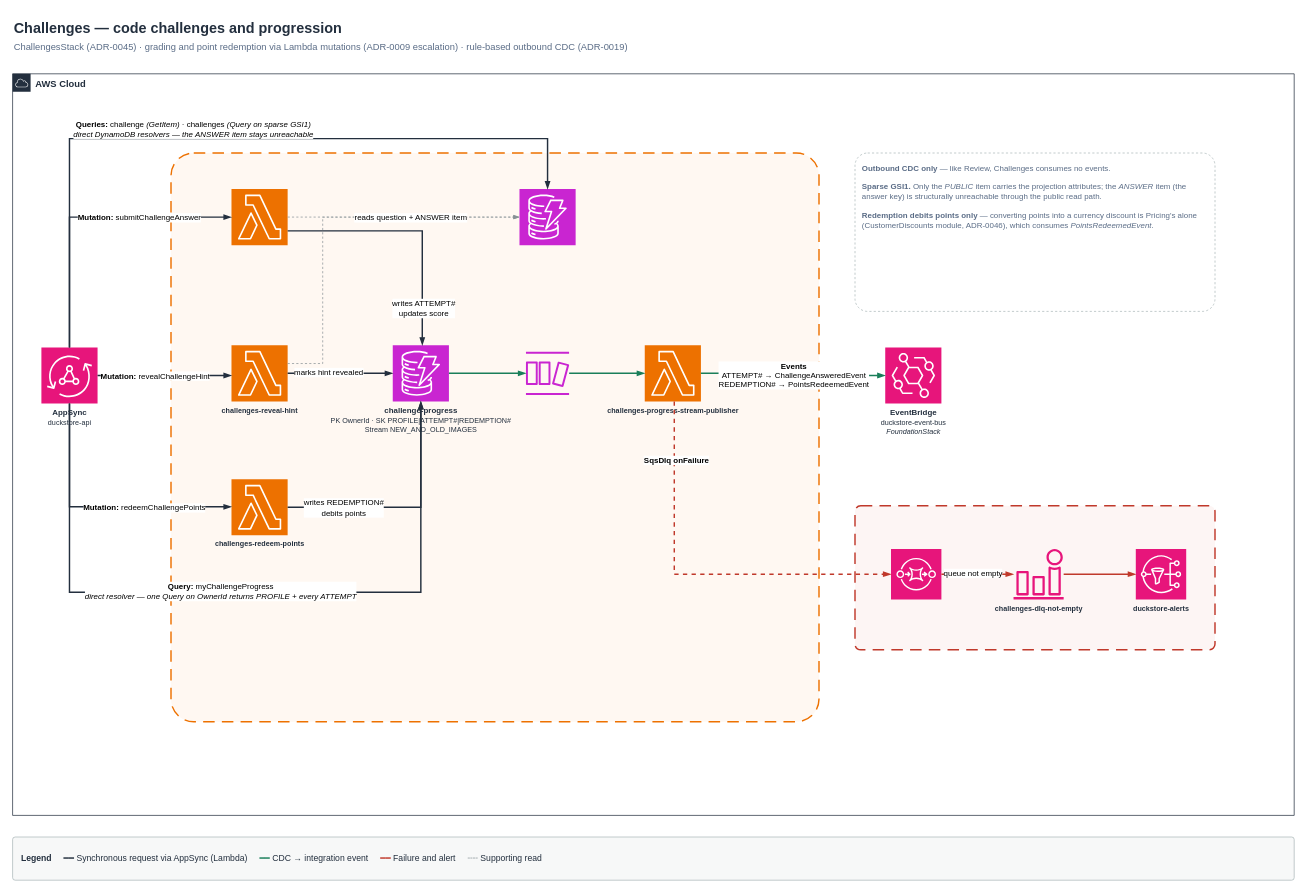
The diagram is 1307 pixels wide and 893 high, and some of its shapes have lost their labels. Here are the shapes that lost their labels. From the top down, the box of each, then its label:
(231, 188, 288, 245): challenges-submit-answer
(519, 188, 576, 245): challenges PK QuestionId · SK PUBLIC|ANSWER sparse GSI1 (ANSWER unreachable)
(526, 351, 569, 395): DynamoDB Stream
(170, 152, 819, 722): ChallengesStack — resources it owns
(890, 548, 941, 599): challenges-dlq
(854, 505, 1215, 650): Failure and alert — ContextDlq (ADR-0015)
